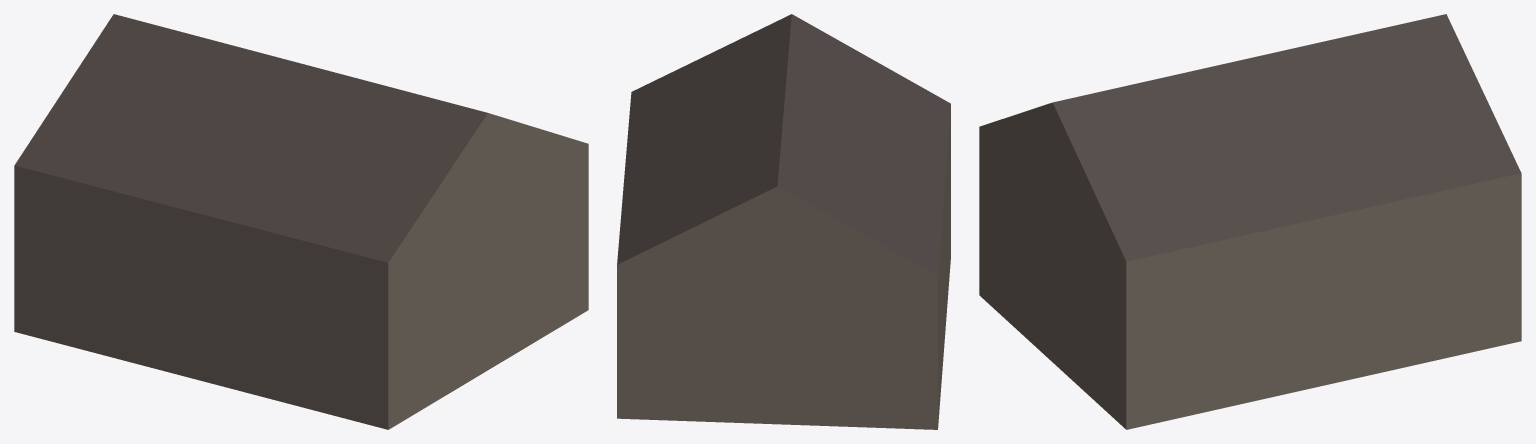
3 views of the same model, side by side, from view 1: azimuth 30°, elevation 25°; view 2: azimuth 150°, elevation 25°; view 3: azimuth 270°, elevation 25° (orthographic). The views are drawn at different scales.
Parts seen in each view (by area): view 1: HP-w1197053248; view 2: HP-w1197053248; view 3: HP-w1197053248.
Part boxes in pixels (<box>): HP-w1197053248: <box>14,14,588,429</box>; HP-w1197053248: <box>617,14,950,429</box>; HP-w1197053248: <box>979,14,1521,429</box>.
Size of the model in its own units: 17.09 by 9.28 by 17.54.
